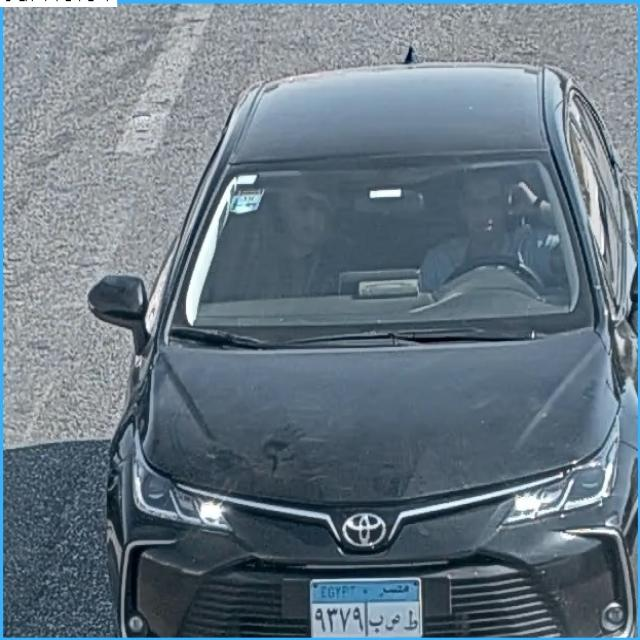windshield: (172, 165, 597, 342)
